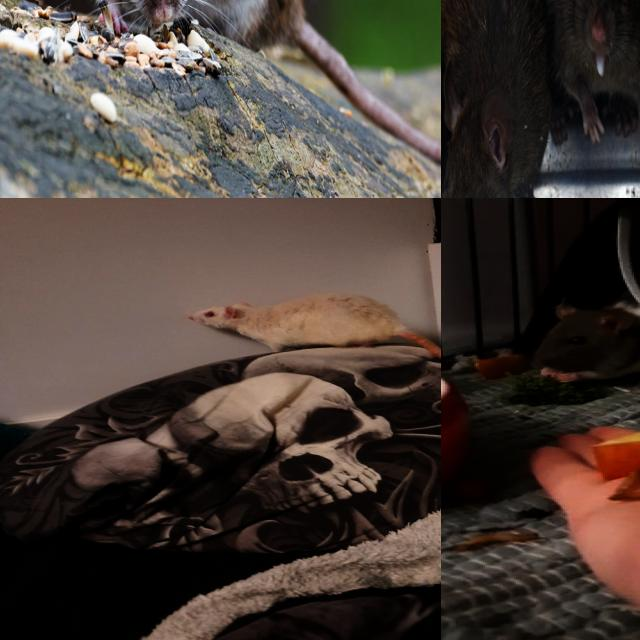rat: (441, 0, 554, 198), (524, 0, 640, 145), (72, 0, 313, 57), (191, 294, 413, 348), (525, 297, 640, 392)
